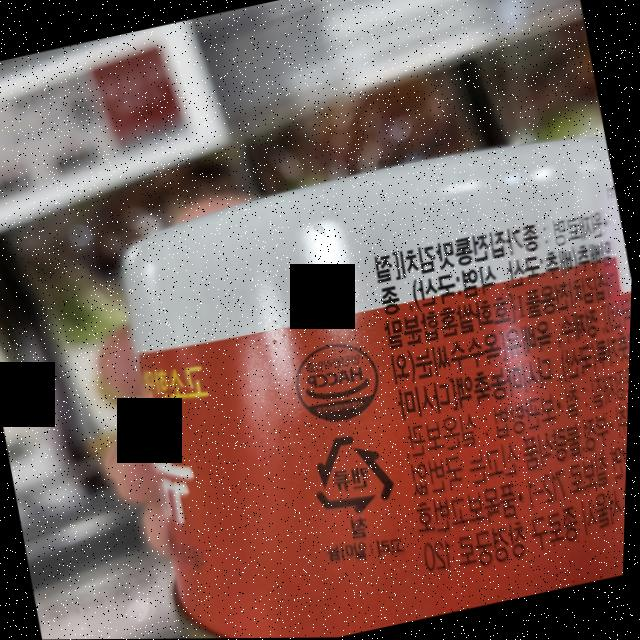Can: (310, 426, 403, 522)
